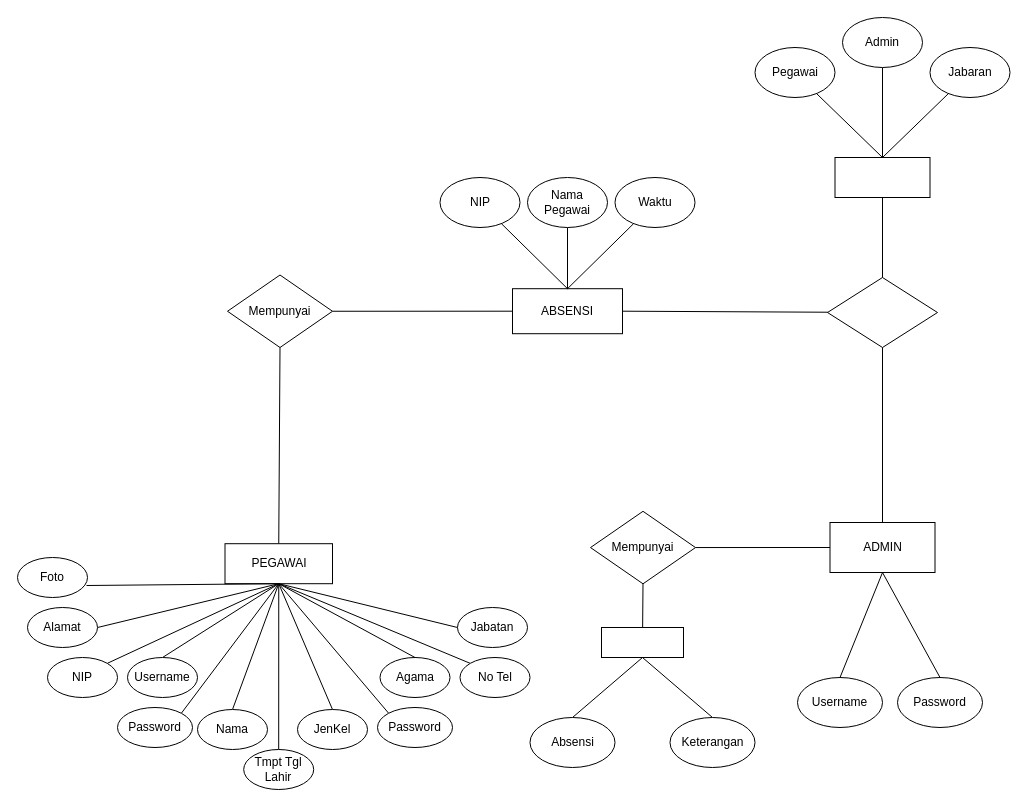
Some shapes in this 1028 by 807 pixel diagram are drawn without their labels. The shapes that lost their labels are listed below. From the top down, each one's centre as x and y in pixels, then its label:
At pixel 882 177: "DATA".
At pixel 882 312: "Mengelola".
At pixel 642 642: "LAPORAN".
